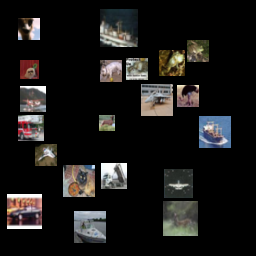airplane: (141, 84, 173, 116), (164, 169, 193, 198), (20, 86, 46, 112), (35, 144, 57, 166)
automobile: (7, 194, 42, 229)
bird: (18, 18, 40, 40), (177, 85, 199, 107)
cat: (63, 165, 95, 197), (126, 58, 148, 80)
deer: (163, 201, 198, 236), (99, 115, 115, 131)
dog: (100, 60, 122, 82), (20, 60, 39, 79)
frog: (159, 50, 185, 76), (187, 40, 209, 62)
ship: (100, 9, 138, 47), (74, 211, 106, 243), (199, 116, 231, 148)
